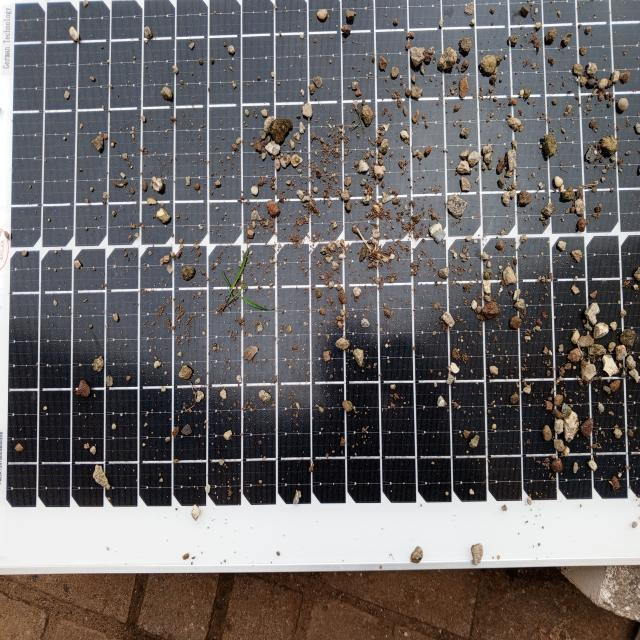Surface Contaminant: (4, 5, 639, 546)
